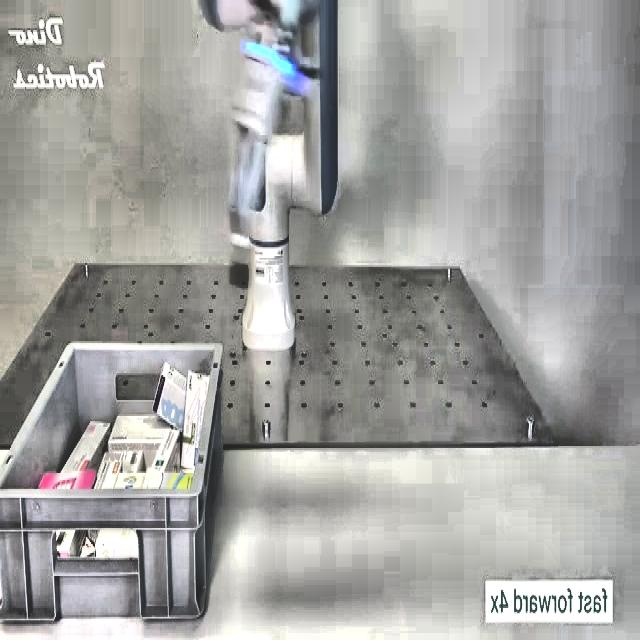robot: (202, 0, 340, 350)
